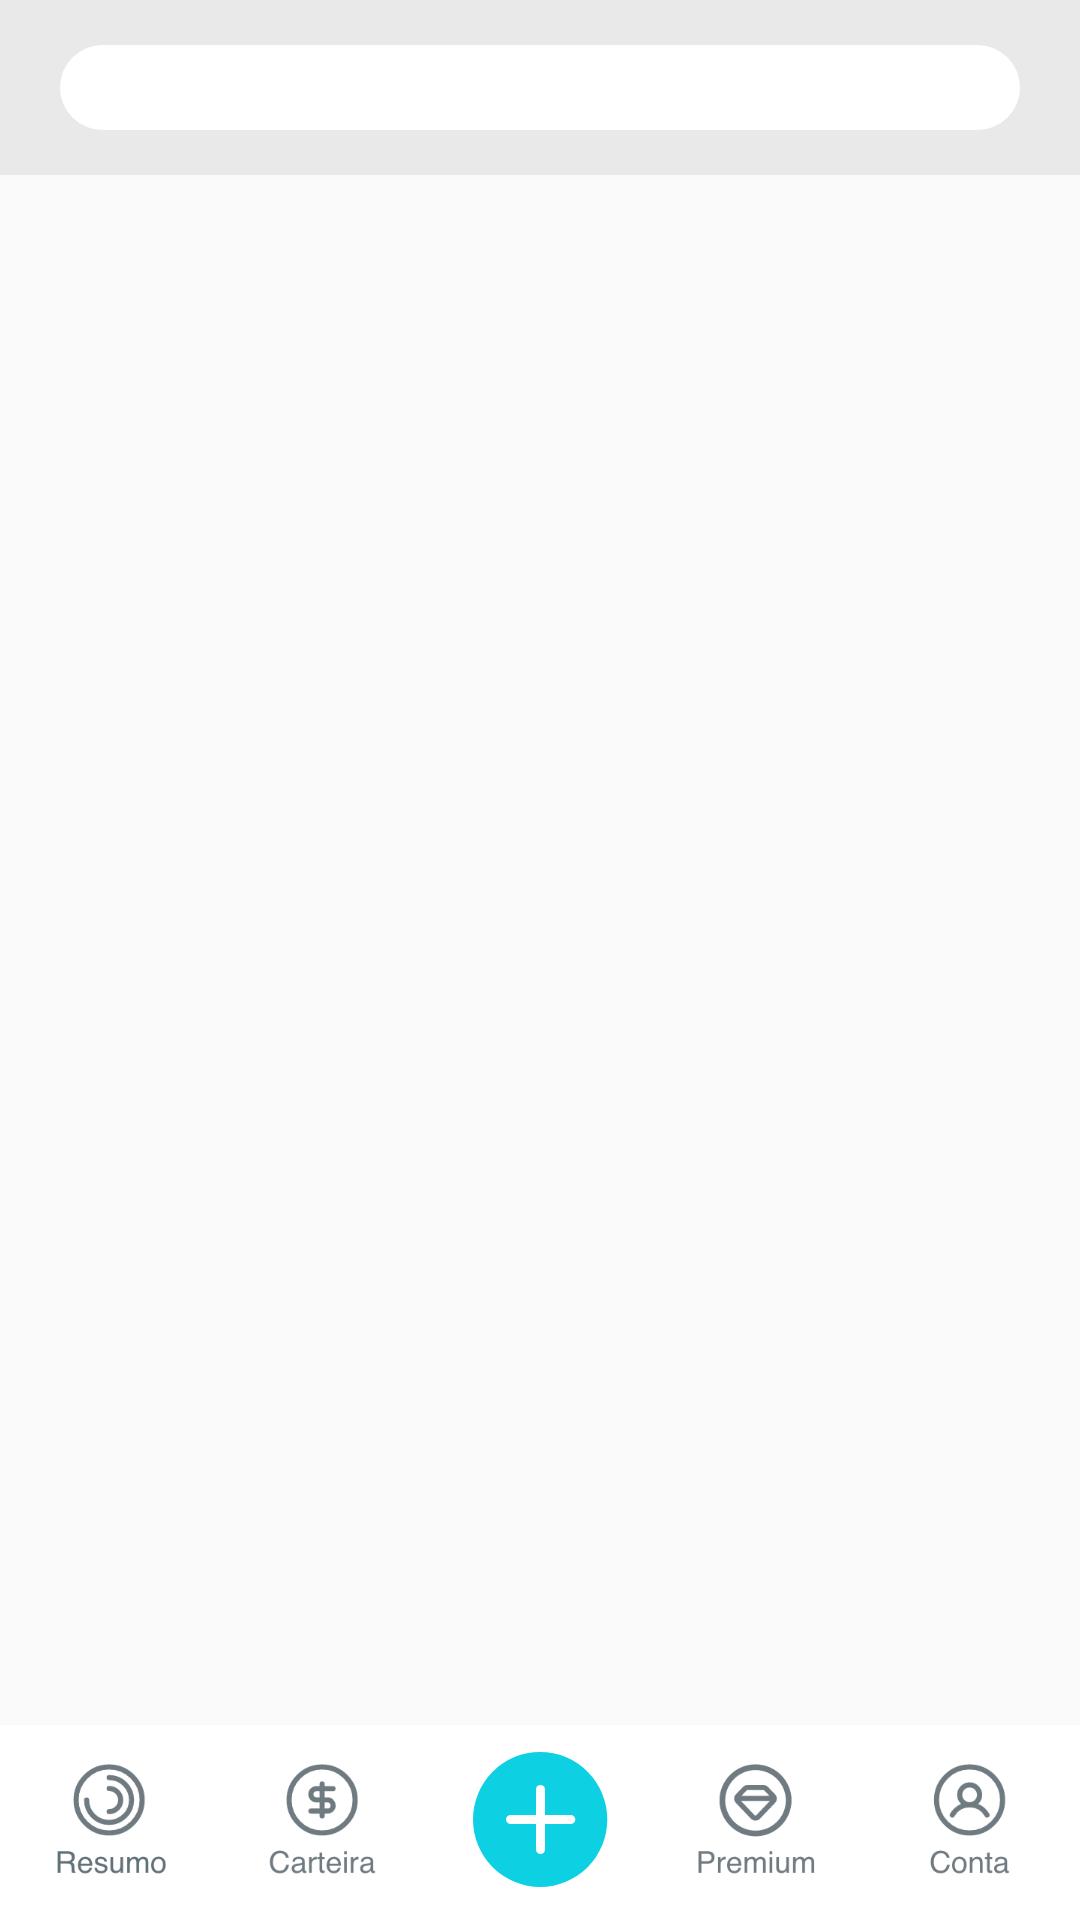

Icons on this 1080×1920 Android screen, each with the point to tap as (x,y):
add: (540,1819)
